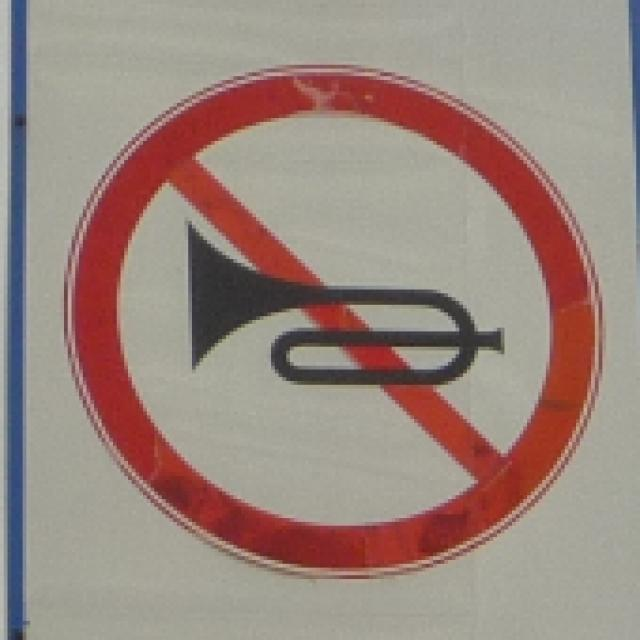No Horn: (59, 57, 611, 578)
